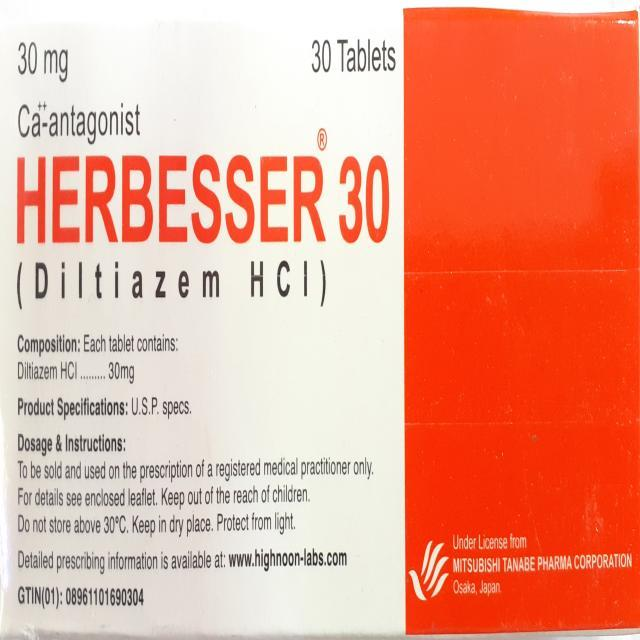drug-name: (17, 152, 390, 248)
